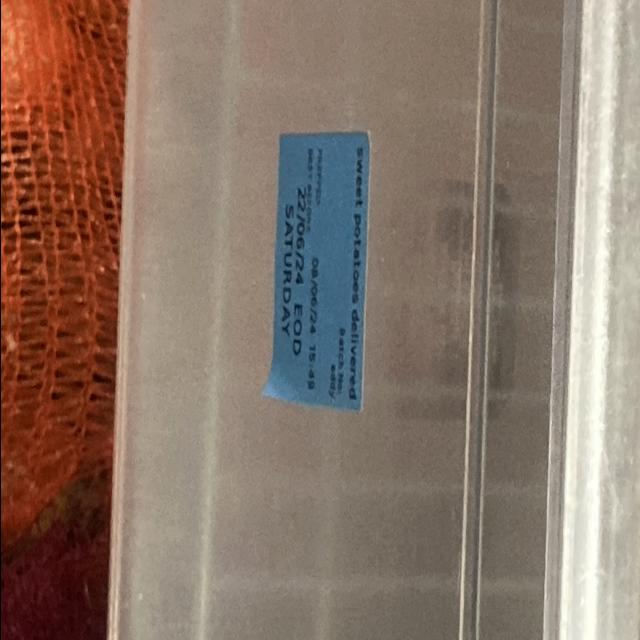product-labels: (261, 131, 371, 415)
